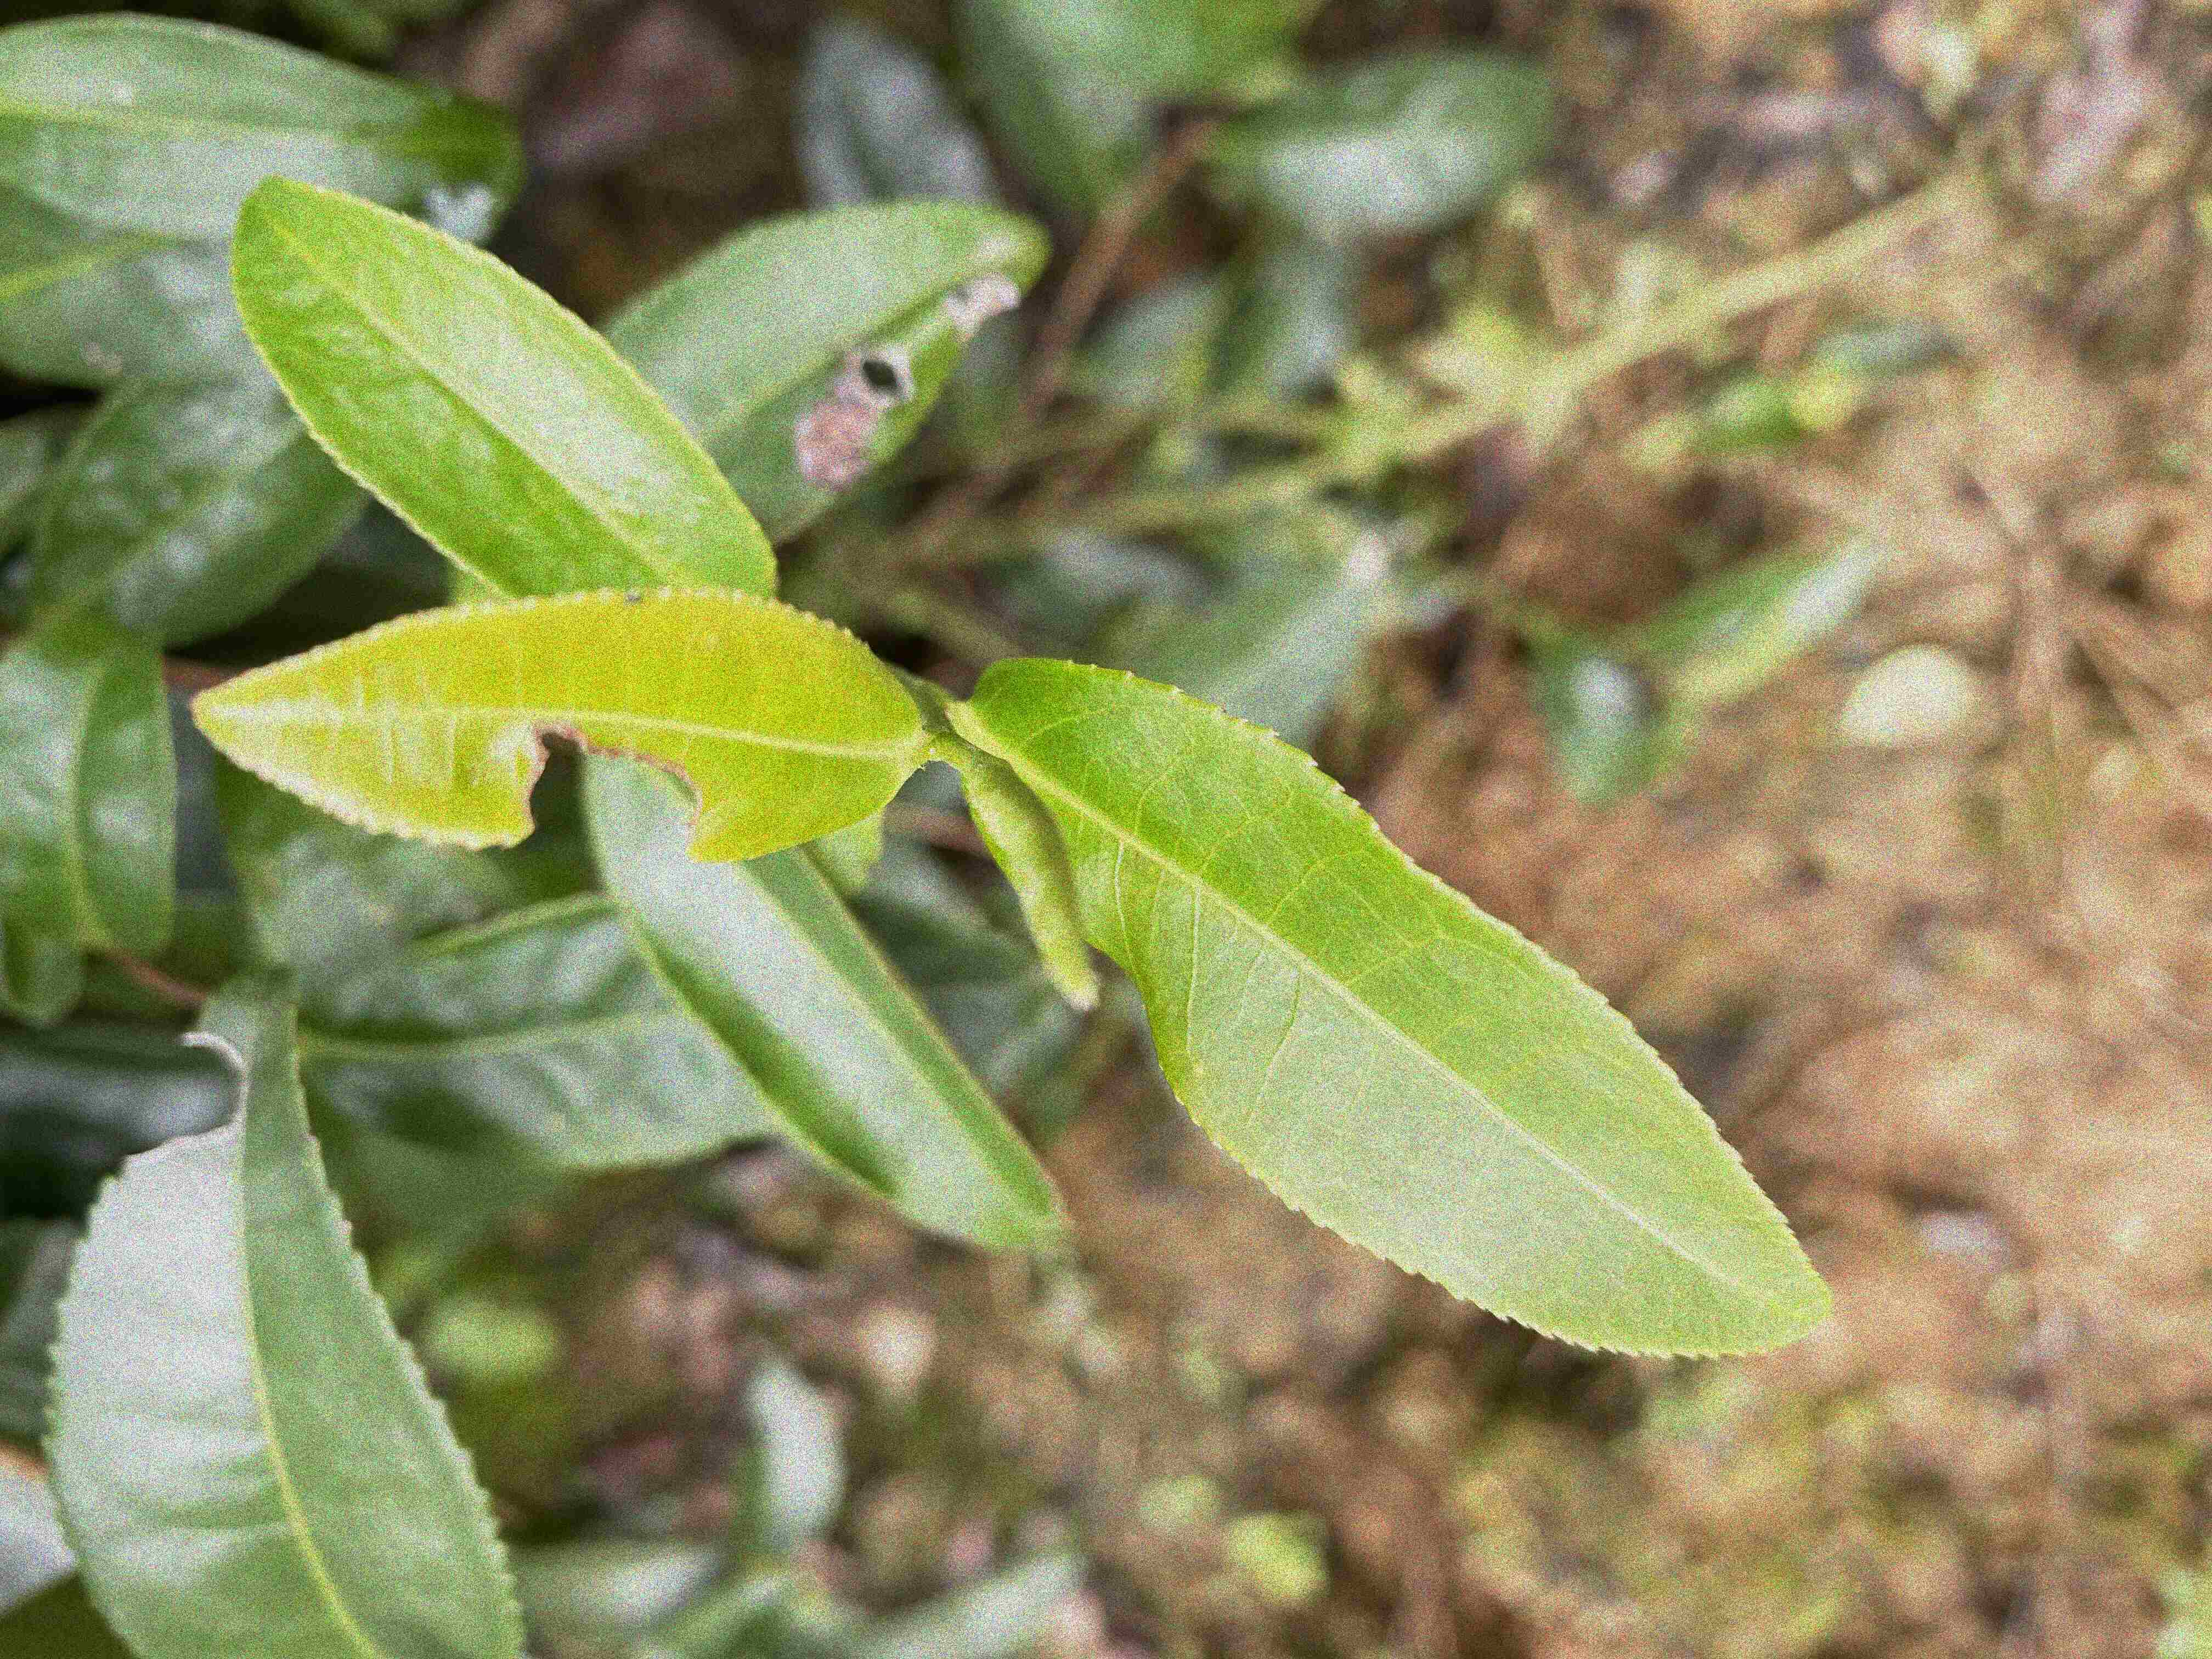chihuo_low: (38, 967, 529, 1656), (192, 579, 934, 866)
healthy: (958, 655, 1832, 1359), (228, 179, 779, 599)
tanju_high: (603, 204, 1045, 547)
